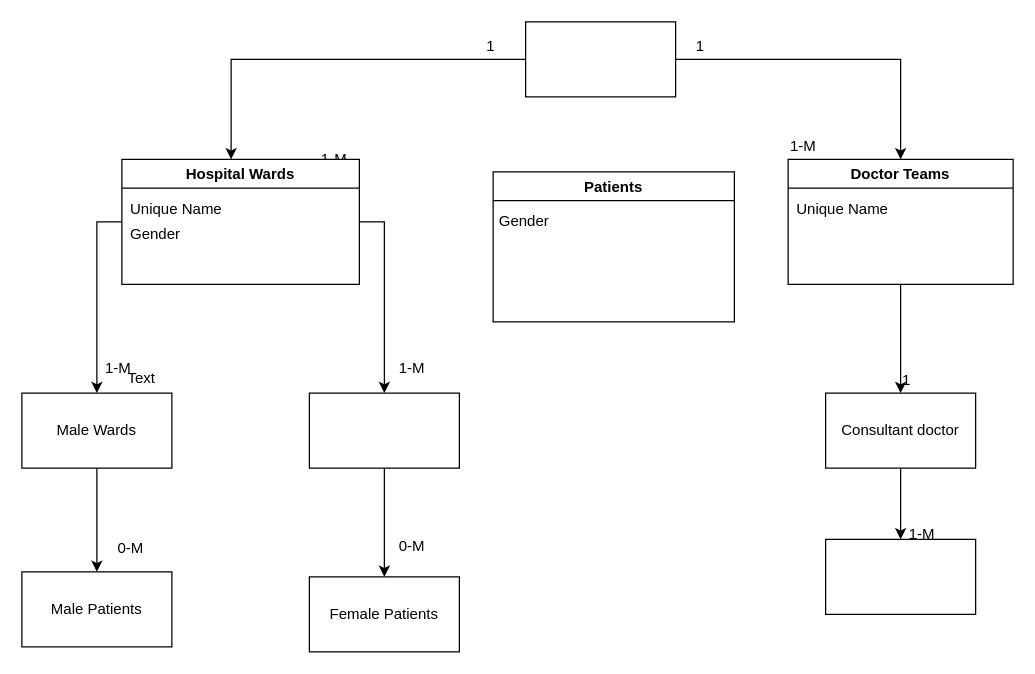
The diagram is 1035 pixels wide and 674 high, and some of its shapes have lost their labels. Each missing label, with the centre of its shape:
"Female Wards" goes at [383,430].
"Hospital" goes at [600,59].
"Junior doctors" goes at [900,576].
